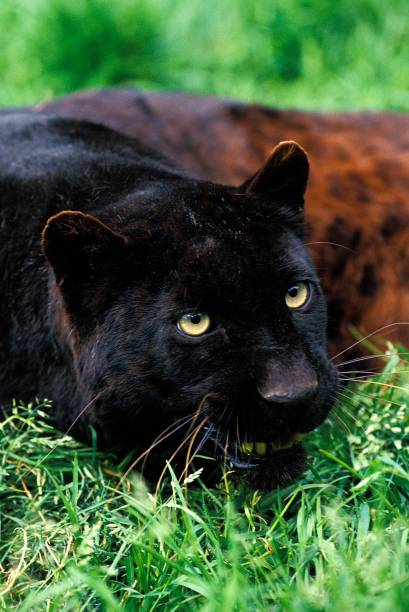panther: (20, 137, 385, 497)
